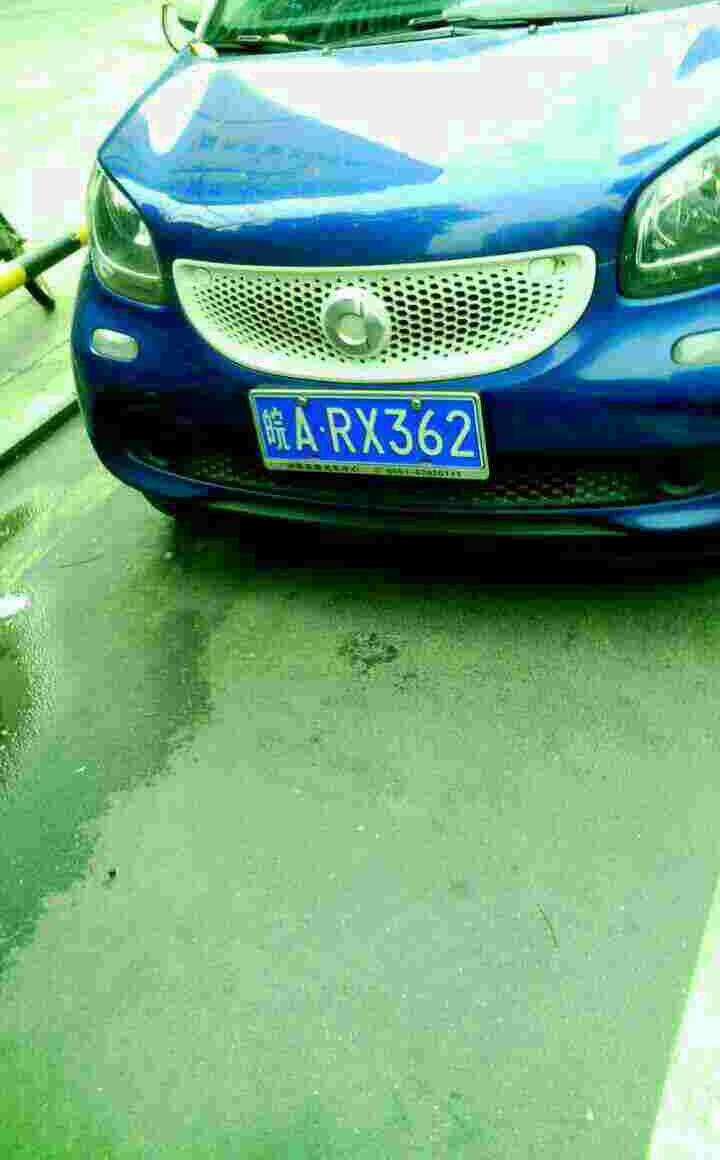license_plate: (253, 391, 495, 472)
